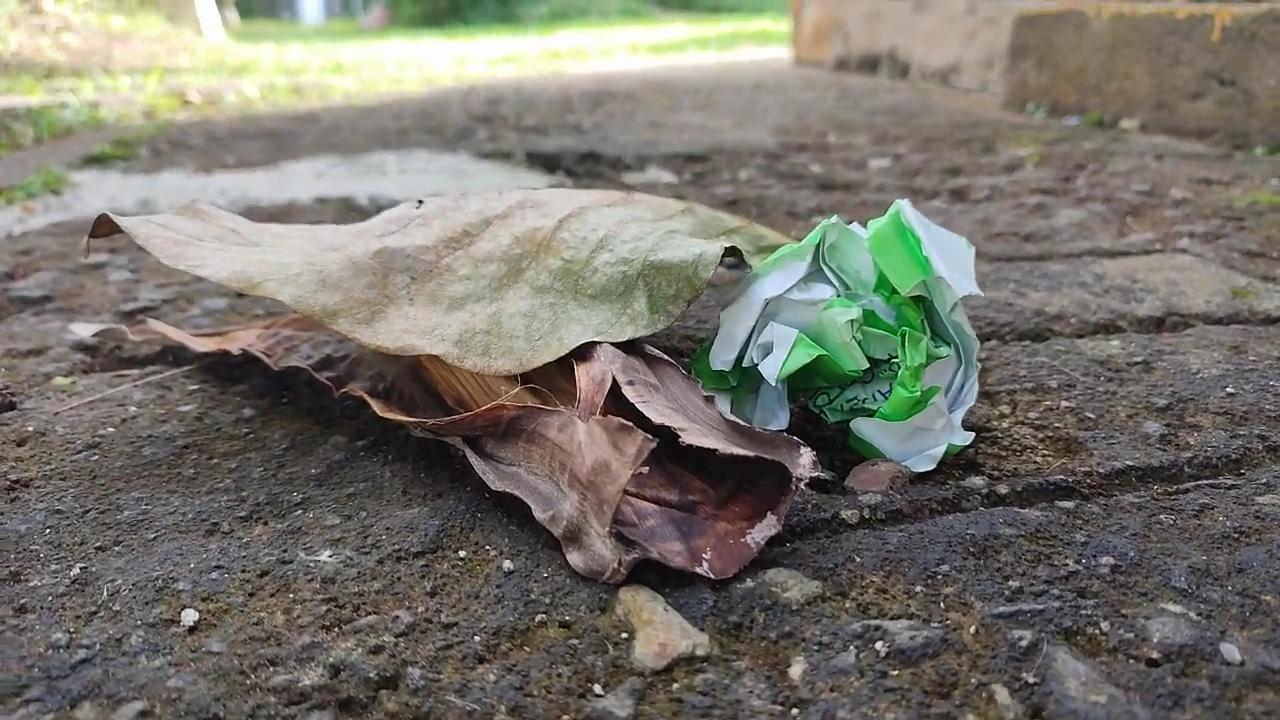Paper: (691, 187, 991, 486)
